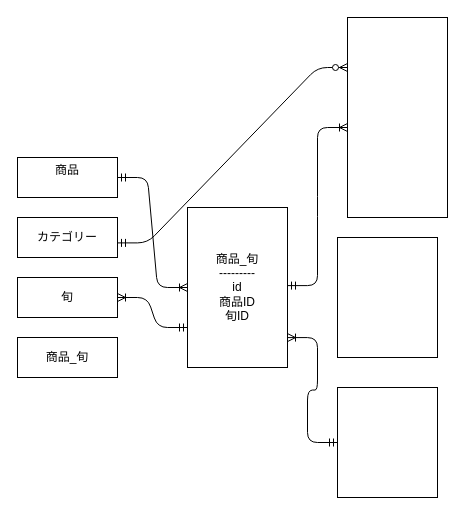
Some shapes in this 465 by 515 pixel diagram are drawn without their labels. The shapes that lost their labels are listed below. From the top down, each one's centre as x and y in pixels, then its label:
At (397,117): "商品 --------- 商品名 価格 画像 説明 カテゴリーID 作成日 更新日".
At (387,297): "カテゴリー --------- id カテゴリー名 作成日 更新日".
At (387,442): "旬 --------- id 旬名 作成日 更新日".
